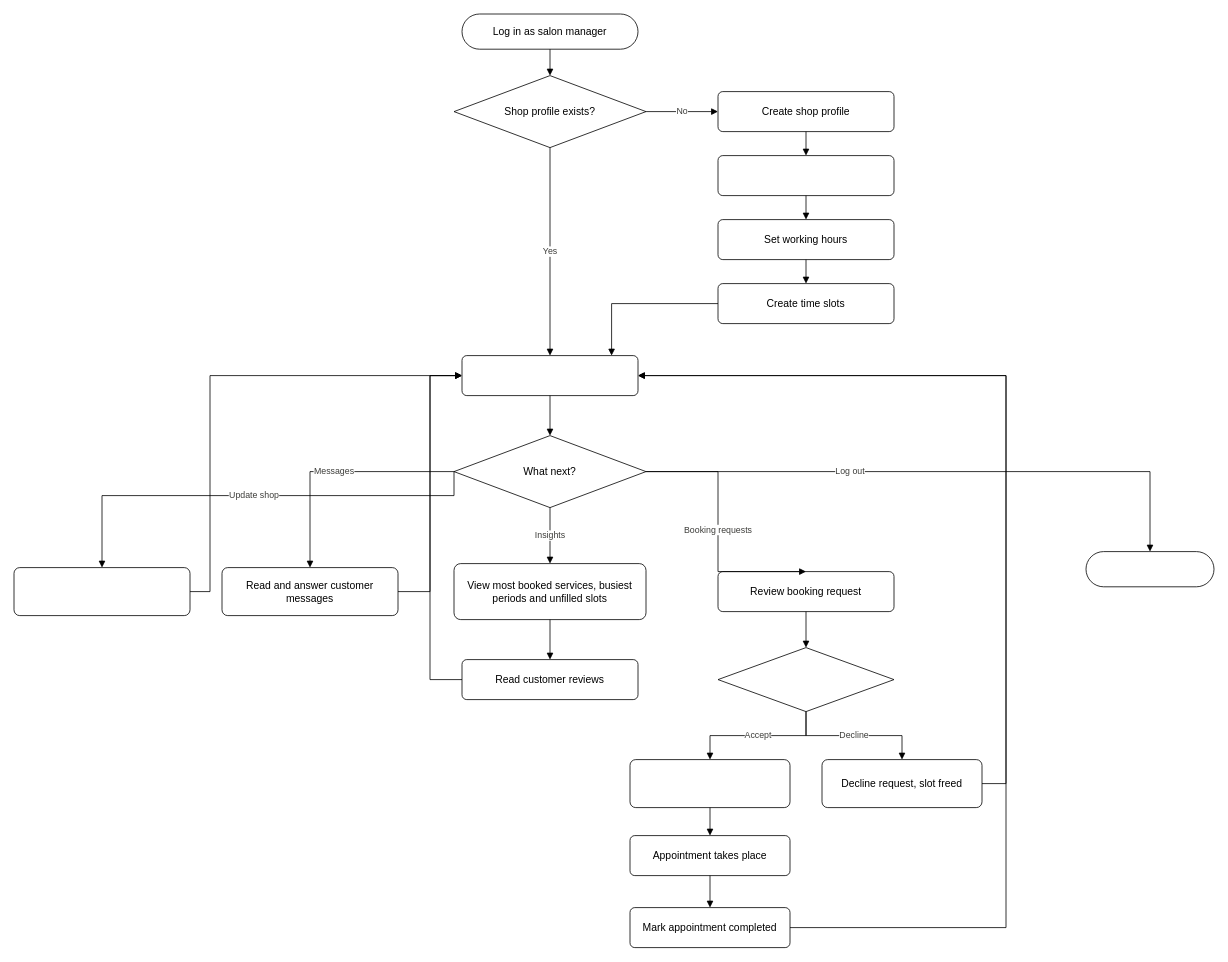
Image size: 1228x962. Some labels were removed from this diagram. The shapes that lost their labels are listed below. From the top down, each one's box as (x1, y1, x2, y2) in pixels, then its label:
(717, 155, 894, 196): Add services and prices
(461, 355, 638, 396): Open dashboard
(1085, 551, 1214, 587): Finish
(13, 567, 190, 616): Edit shop info, services and prices
(717, 647, 894, 712): Accept?
(629, 759, 790, 808): Confirm booking, customer notified
